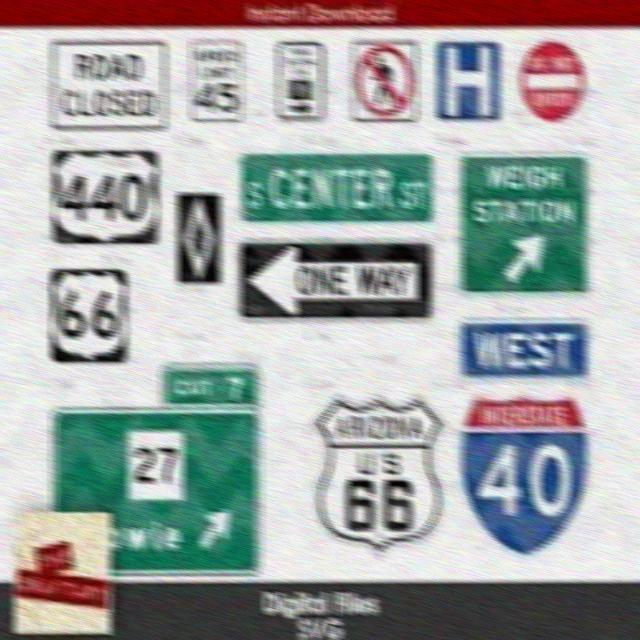speedLimit45: (183, 36, 244, 127)
